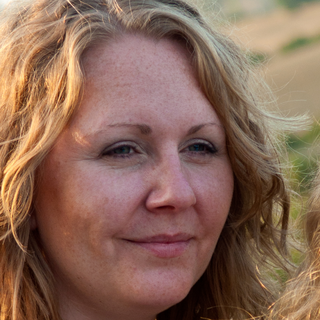eye: (96, 138, 149, 164), (176, 136, 222, 163)
